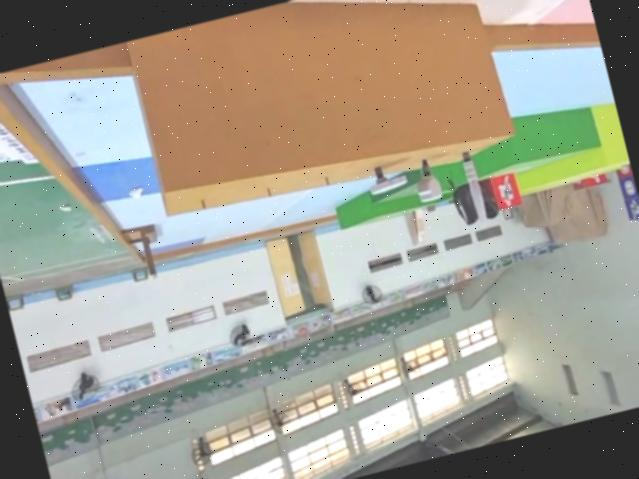Fist: (408, 156, 446, 205)
Hand: (360, 156, 411, 196)
Sph: (460, 149, 492, 227)
